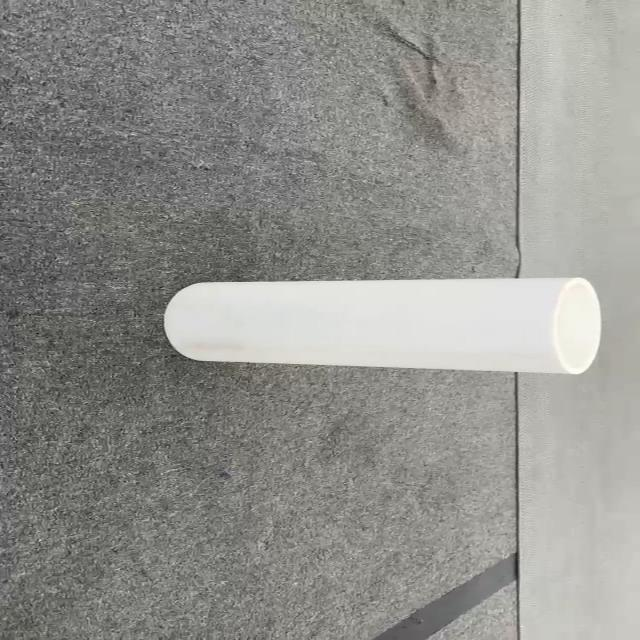coral: (162, 276, 602, 376)
